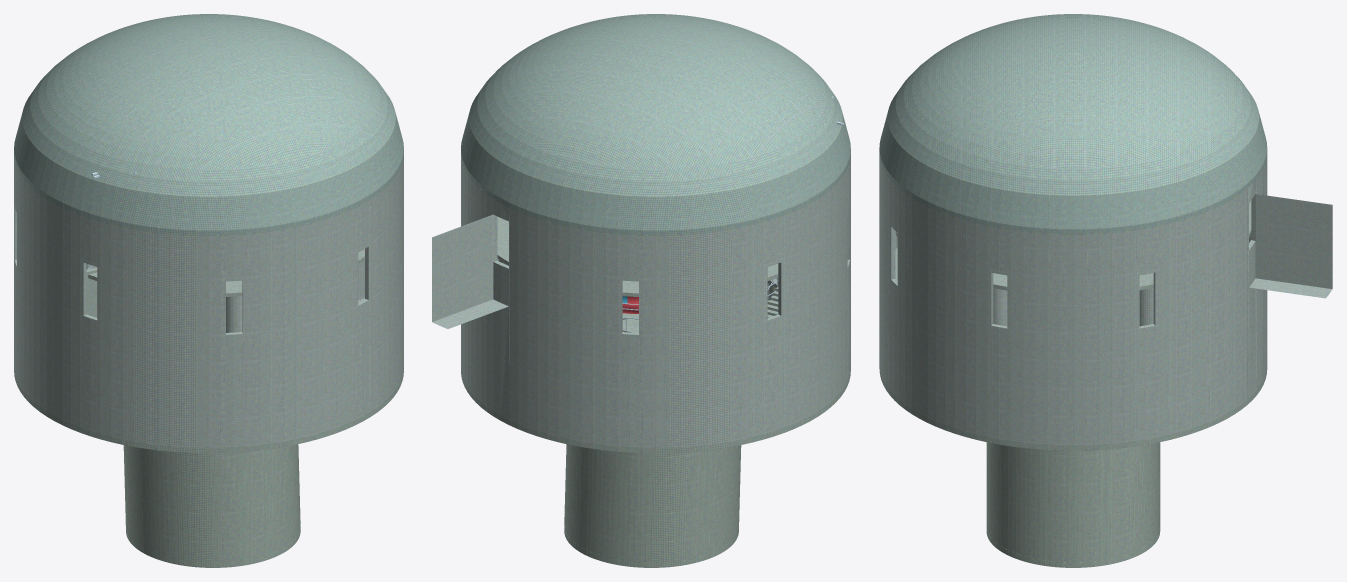
The model's file is pool-level-1.glb.
The picture shows the model from 3 angles, left to right: view 1: azimuth 30°, elevation 25°; view 2: azimuth 150°, elevation 25°; view 3: azimuth 270°, elevation 25°; orthographic projection.
Visible parts, largest first — view 1: Pool Level 1; view 2: Pool Level 1; view 3: Pool Level 1.
Part boxes in pixels (x1,y1,x2,y2): Pool Level 1: [14, 14, 403, 567]; Pool Level 1: [432, 14, 850, 567]; Pool Level 1: [879, 14, 1332, 567].
Size of the model in its own units: 25 by 34.65 by 29.21.
12 materials, 4 textured.
